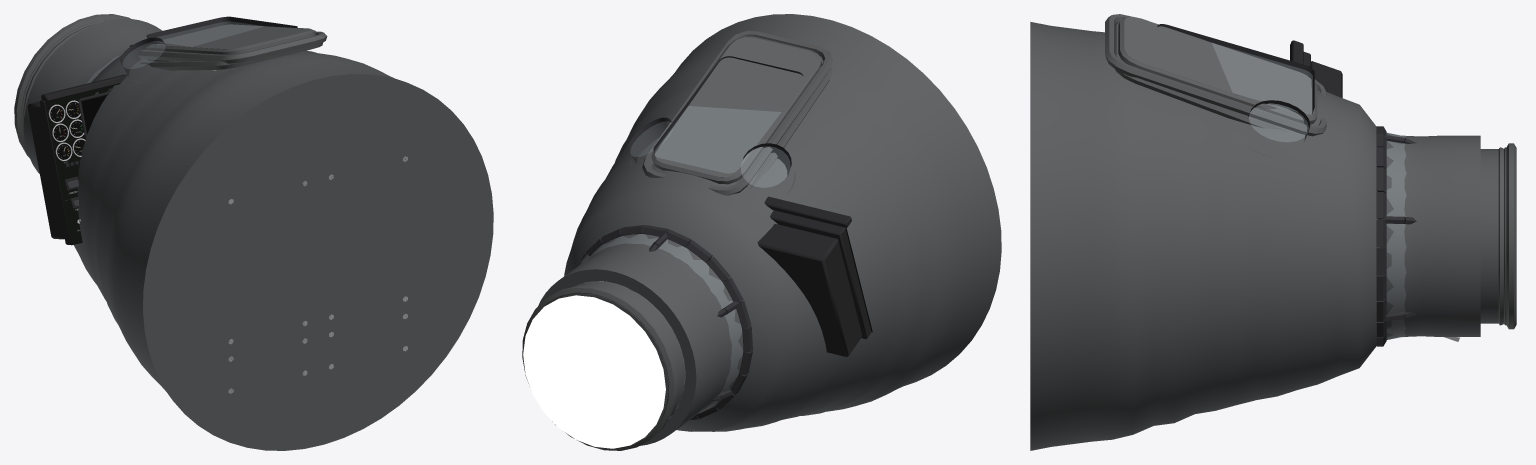
Rendered from gemini.glb.
3 views of the same model, side by side, from view 1: azimuth 30°, elevation 25°; view 2: azimuth 150°, elevation 25°; view 3: azimuth 270°, elevation 25° (orthographic). The views are drawn at different scales.
Visible parts, largest first — view 1: shell_cupola, panel, shell_panoramic, door_inward, hatchframe_inward, hatchframe_top, glass_panoramic0, hatchframe_side, frame_panoramic0, docking, glass_small1, frame_small1; view 2: shell_cupola, plug_top, shell_panoramic, door_inward, panel, glass_panoramic0, frame_cupola, hatchframe_inward, hatchframe_top, glass_cupola, docking, glass_small1 (+6 smaller); view 3: shell_cupola, shell_panoramic, door_inward, docking, glass_panoramic0, hatchframe_inward, frame_cupola, glass_cupola, hatchframe_top, glass_small0, hatchframe_side, panel (+2 smaller).
Part boxes in pixels (bbox=[...]): shell_cupola: bbox=[74, 50, 493, 450]; panel: bbox=[27, 74, 127, 245]; shell_panoramic: bbox=[23, 18, 302, 173]; door_inward: bbox=[146, 24, 316, 54]; hatchframe_inward: bbox=[138, 31, 327, 63]; hatchframe_top: bbox=[14, 14, 130, 157]; glass_panoramic0: bbox=[158, 22, 262, 46]; hatchframe_side: bbox=[140, 42, 323, 70]; frame_panoramic0: bbox=[146, 16, 297, 39]; docking: bbox=[21, 20, 106, 133]; glass_small1: bbox=[123, 42, 164, 68]; frame_small1: bbox=[120, 37, 165, 86]; shell_cupola: bbox=[564, 14, 1001, 431]; plug_top: bbox=[523, 295, 665, 448]; shell_panoramic: bbox=[538, 94, 835, 445]; door_inward: bbox=[651, 36, 821, 184]; panel: bbox=[600, 196, 872, 356]; glass_panoramic0: bbox=[655, 106, 780, 172]; frame_cupola: bbox=[575, 225, 752, 419]; hatchframe_inward: bbox=[642, 31, 832, 195]; hatchframe_top: bbox=[522, 286, 676, 450]; glass_cupola: bbox=[587, 234, 742, 410]; docking: bbox=[547, 281, 685, 436]; glass_small1: bbox=[741, 147, 789, 187]; shell_cupola: bbox=[1030, 22, 1379, 450]; shell_panoramic: bbox=[1134, 84, 1480, 339]; door_inward: bbox=[1118, 16, 1317, 124]; docking: bbox=[1480, 147, 1506, 325]; glass_panoramic0: bbox=[1212, 43, 1312, 113]; hatchframe_inward: bbox=[1105, 14, 1326, 136]; frame_cupola: bbox=[1376, 126, 1416, 346]; glass_cupola: bbox=[1387, 133, 1405, 338]; hatchframe_top: bbox=[1506, 143, 1516, 329]; glass_small0: bbox=[1249, 104, 1308, 141]; hatchframe_side: bbox=[1114, 22, 1289, 132]; panel: bbox=[1290, 40, 1460, 341].
Size of the model in its own units: 1.67 by 1.7 by 1.91.
Materials: 30 (1 with a texture image).
